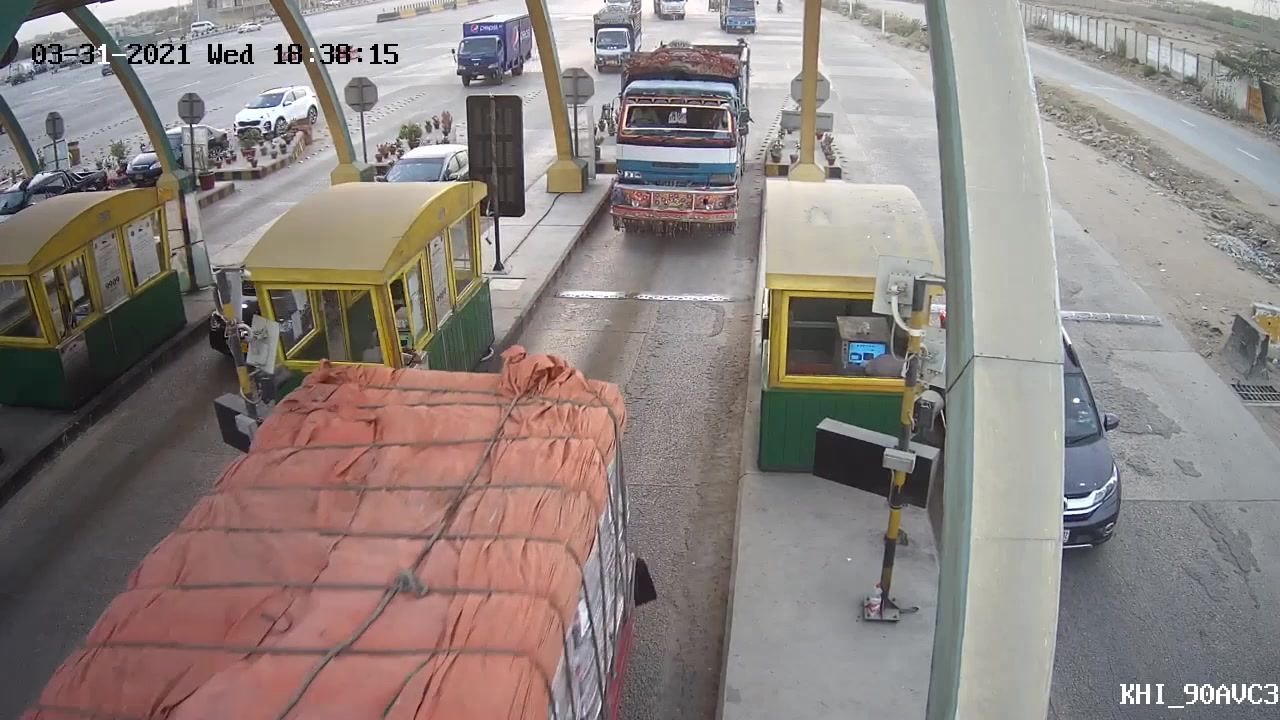F5: (589, 33, 766, 253)
